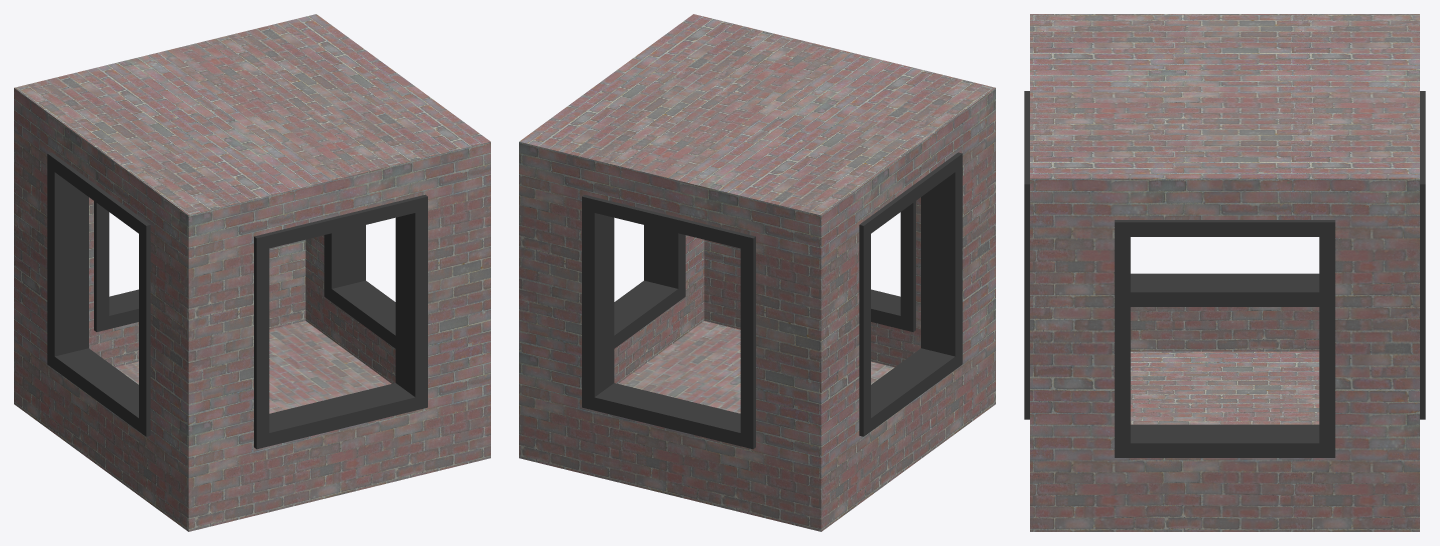
File: building1.glb
3 views of the same model, side by side, from view 1: azimuth 30°, elevation 25°; view 2: azimuth 150°, elevation 25°; view 3: azimuth 270°, elevation 25° (orthographic). The views are drawn at different scales.
Visible parts, largest first — view 1: Block; view 2: Block; view 3: Block.
Boxes of the visible parts, x1,y1,x2,y2 form: Block: (14, 14, 490, 531); Block: (519, 14, 995, 531); Block: (1024, 14, 1425, 531).
Bounding box in the file's own units: 6.18 × 6 × 6.18.
Materials: 2 (1 with a texture image).
